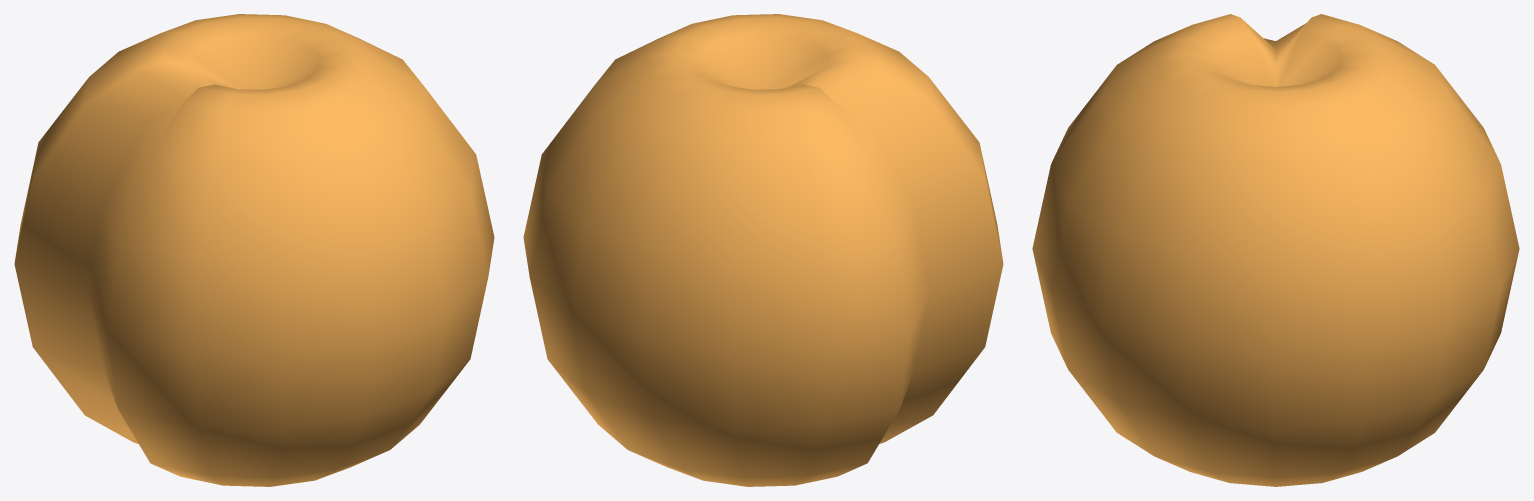
File: Peach_00.fbx
3 views of the same model, side by side, from view 1: azimuth 30°, elevation 25°; view 2: azimuth 150°, elevation 25°; view 3: azimuth 270°, elevation 25° (orthographic).
Visible parts, largest first — view 1: Peach_00; view 2: Peach_00; view 3: Peach_00.
Part boxes in pixels (left/top/right/bottom): Peach_00: left=14, top=14, right=494, bottom=486; Peach_00: left=523, top=14, right=1003, bottom=486; Peach_00: left=1032, top=14, right=1519, bottom=486.
Size of the model in its own units: 14.23 by 13.3 by 14.79.
